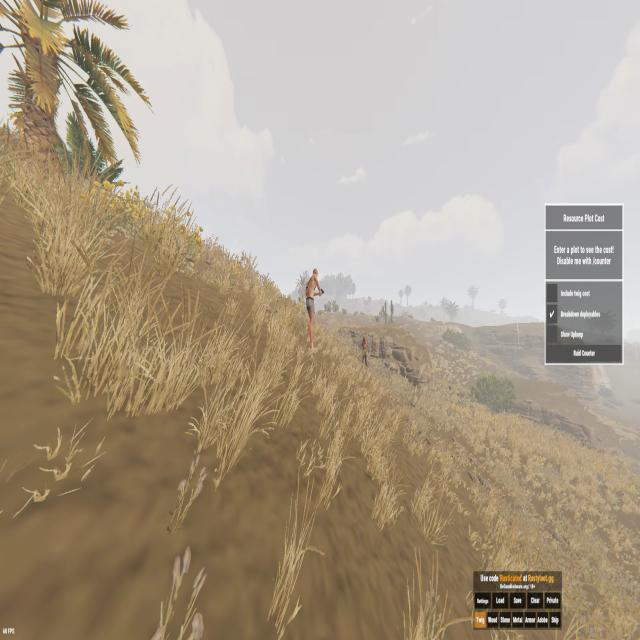Player: (304, 267, 322, 350), (361, 336, 368, 366)
